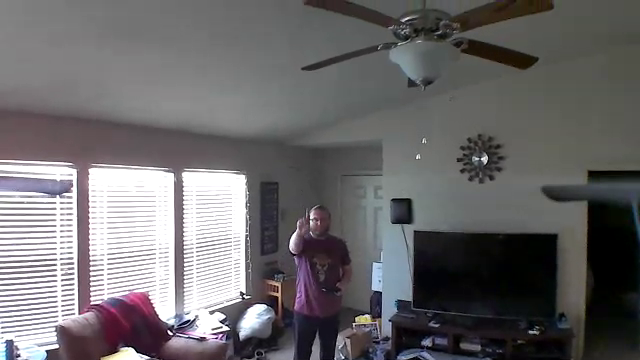up: (291, 205, 311, 238)
